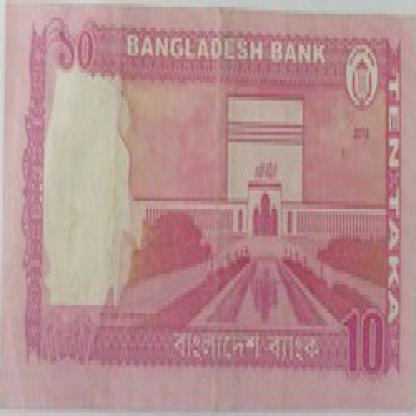Ten Taka: (45, 14, 110, 90), (340, 305, 390, 392)
